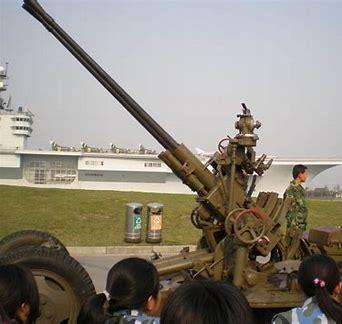MIL_SPG: (23, 0, 342, 309)
